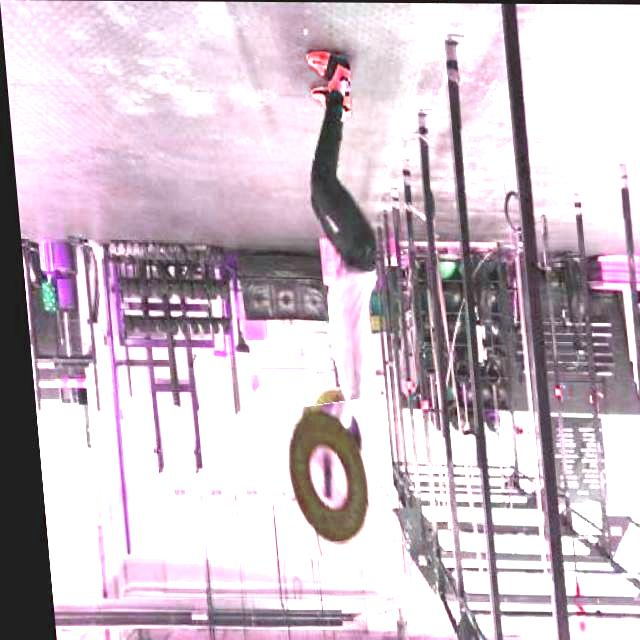barbell: (266, 402, 385, 557)
